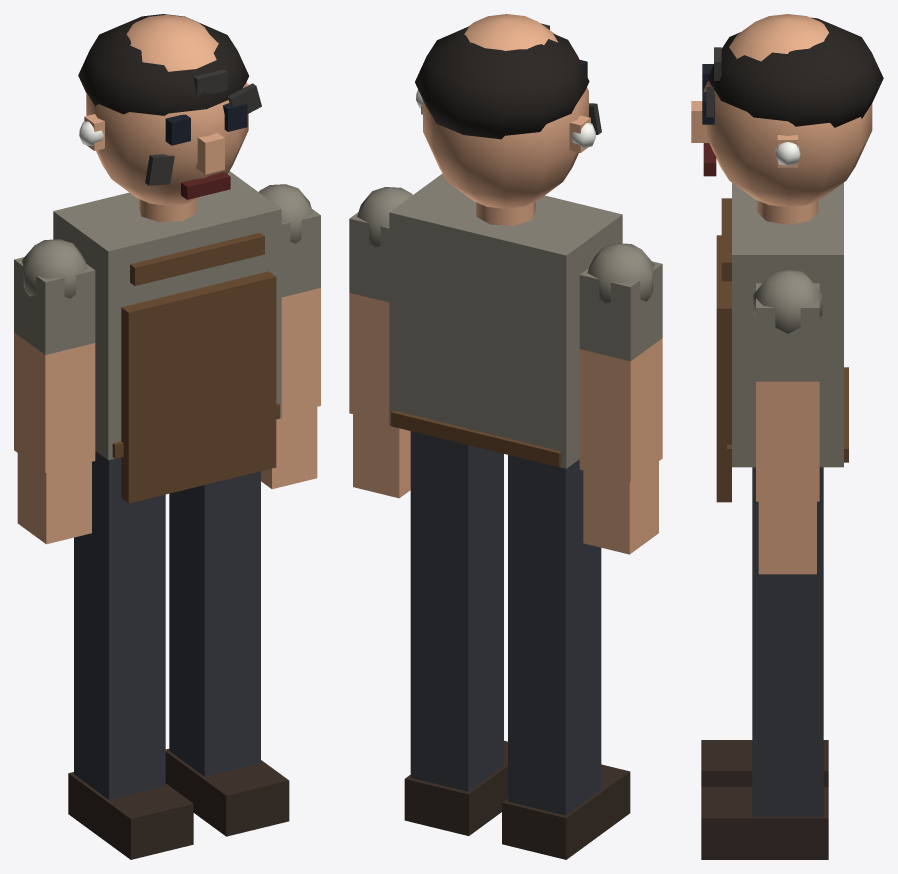
File: urban.glb
3 renders of one model, left to right at view 1: azimuth 30°, elevation 25°; view 2: azimuth 150°, elevation 25°; view 3: azimuth 270°, elevation 25°, orthographic. The views are drawn at different scales.
Visible parts, largest first — view 1: Body, LegR, LegL, Head, ArmR, ArmL, Mouth; view 2: Body, LegR, LegL, Head, ArmR, ArmL; view 3: Head, LegL, Body, ArmL, LegR, Mouth.
Part boxes in pixels (left/top/right/bottom): Body: left=53, top=171, right=281, bottom=503; LegR: left=68, top=451, right=193, bottom=859; LegL: left=165, top=471, right=289, bottom=836; Head: left=78, top=14, right=261, bottom=205; ArmR: left=14, top=239, right=95, bottom=544; ArmL: left=259, top=184, right=320, bottom=489; Mouth: left=181, top=172, right=230, bottom=199; Body: left=389, top=173, right=622, bottom=468; LegR: left=502, top=455, right=630, bottom=859; LegL: left=404, top=431, right=507, bottom=835; Head: left=415, top=14, right=601, bottom=208; ArmR: left=579, top=243, right=662, bottom=554; ArmL: left=349, top=187, right=412, bottom=498; Head: left=691, top=14, right=883, bottom=207; LegL: left=701, top=467, right=828, bottom=859; Body: left=716, top=182, right=848, bottom=502; ArmL: left=753, top=269, right=822, bottom=574; LegR: left=701, top=740, right=828, bottom=787; Mouth: left=703, top=143, right=716, bottom=176.
Size of the model in its own units: 0.6556 by 1.74 by 0.3784.
